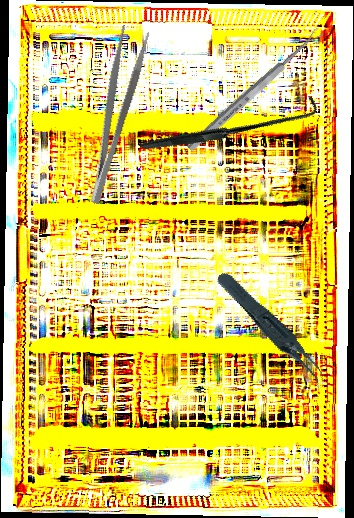Dressing Forceps: (72, 24, 153, 206)
Hook Surgical: (138, 35, 321, 213)
Surgical Spoon: (185, 26, 325, 154)
Tissue Forceps: (215, 255, 329, 408)
